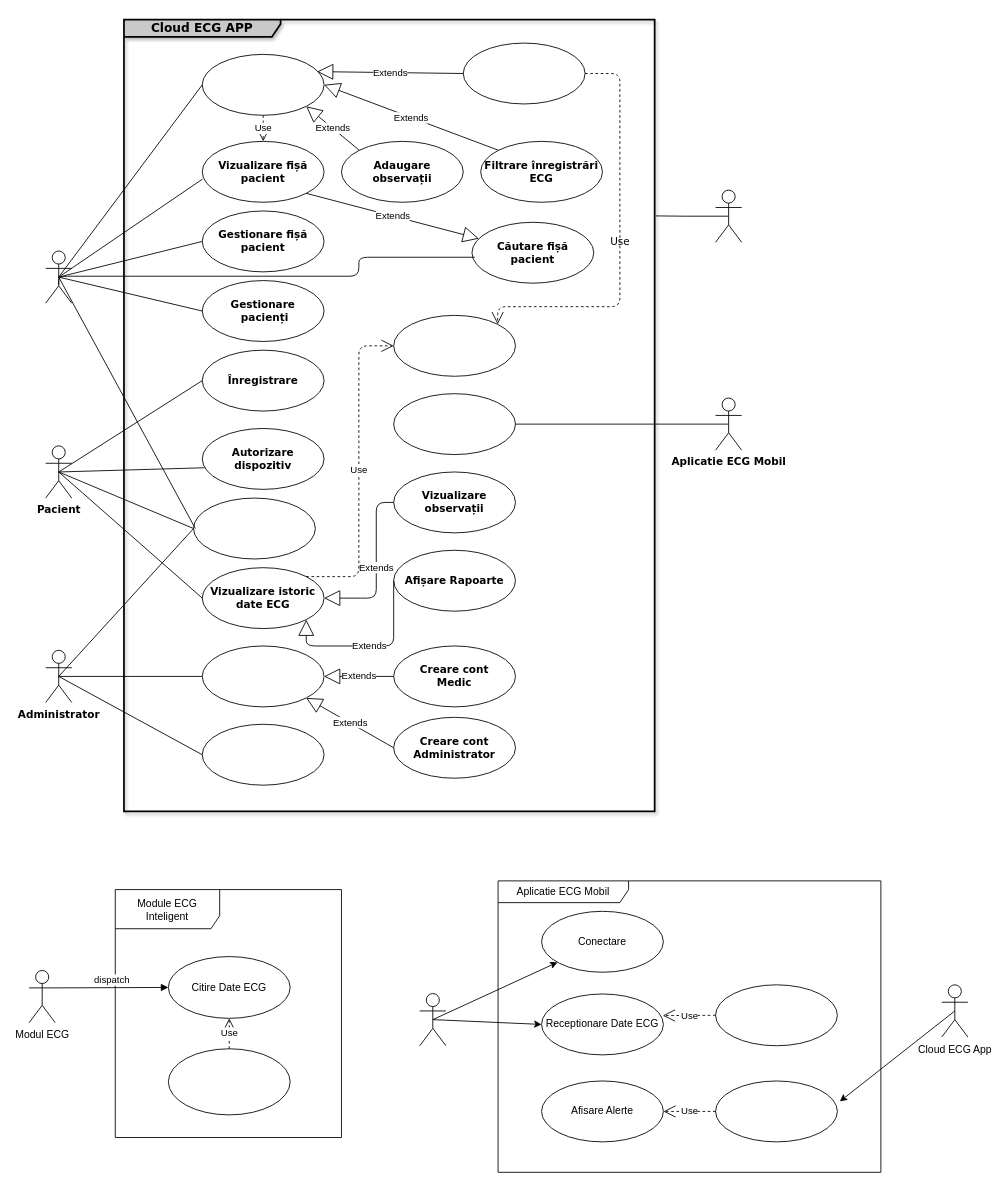
This 1007x1188 diagram has some shape labels left out. Each missing label, with the centre of its shape:
"Cloud Database" goes at (x=728, y=215).
"Gestionare utilizatori" goes at (x=262, y=676).
"Gestionare înregistrări ECG" goes at (x=262, y=84).
"Login" goes at (x=254, y=528).
"Medic" goes at (x=58, y=276).
"Modul ECG Inteligent" goes at (x=432, y=1019).
"Primire Alerte" goes at (x=776, y=1111).
"Procesare Date" goes at (x=228, y=1081).
"Salvare citiri ECG" goes at (x=454, y=424).
"Trimite Date ECG la Cloud App" goes at (x=776, y=1015).
"Vizualizare citire ECG" goes at (x=454, y=345).
"Vizualizare citiri ECG" goes at (x=523, y=73).
"Vizualizare utilizatori" goes at (x=262, y=754).
